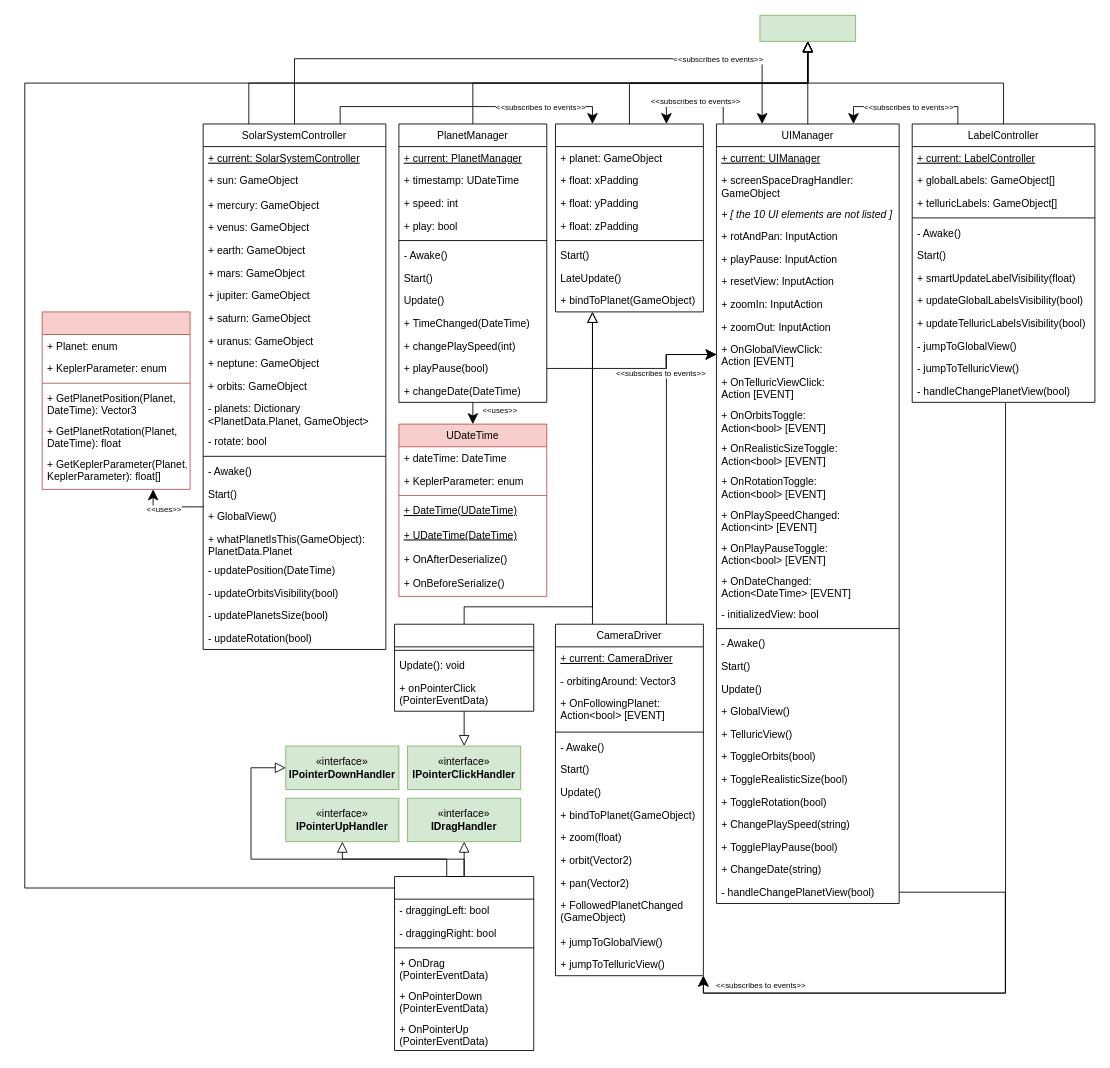
This 1110x1068 diagram has some shape labels left out. The box of each missing label's shape, as (x1, y1, x2, y2) in pixels:
FollowPlanet: (555, 123, 703, 312)
LabelDriver: (394, 623, 534, 711)
MonoBehaviour: (759, 14, 856, 41)
MouseDragHandler: (394, 876, 534, 1051)
PlanetData: (41, 311, 190, 489)
